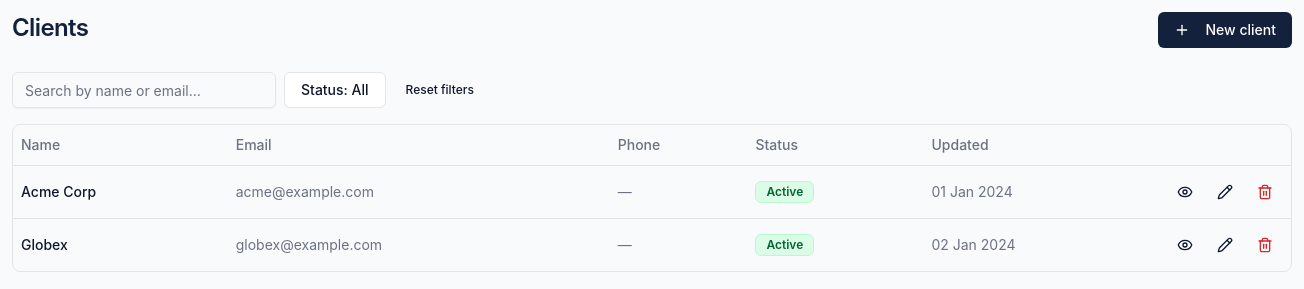
ClientsPage › Reset-resets-all-state: Reset filters button clears search and status filter
// Set search and status filter
Type "Acme" into the search field with test id "search-input" at (144, 90), box [12, 72, 276, 108]
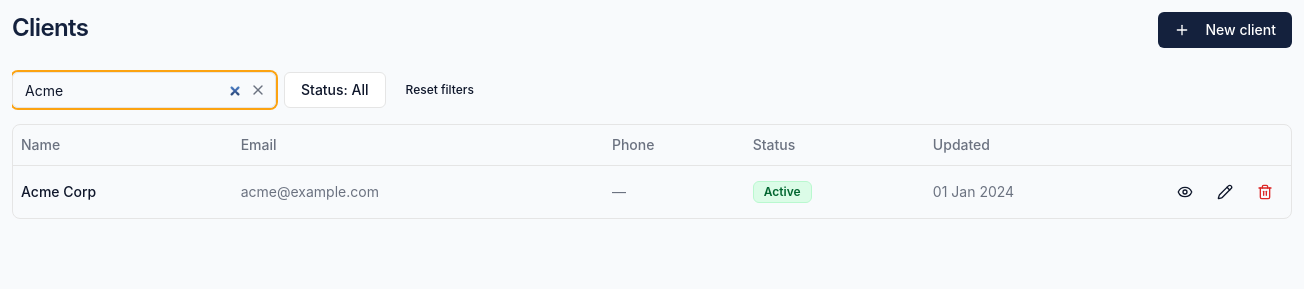
Click the button with test id "status-filter-trigger" at (335, 90), box [284, 72, 386, 108]
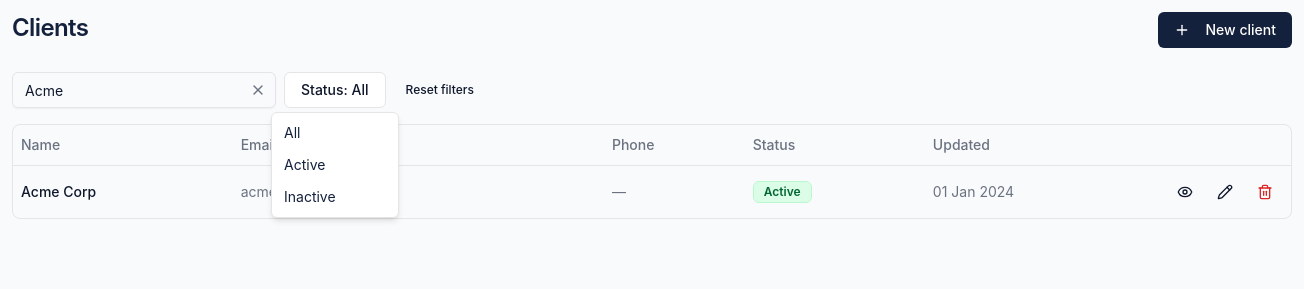
Click the menu item with test id "filter-active" at (305, 164), box [284, 156, 325, 173]
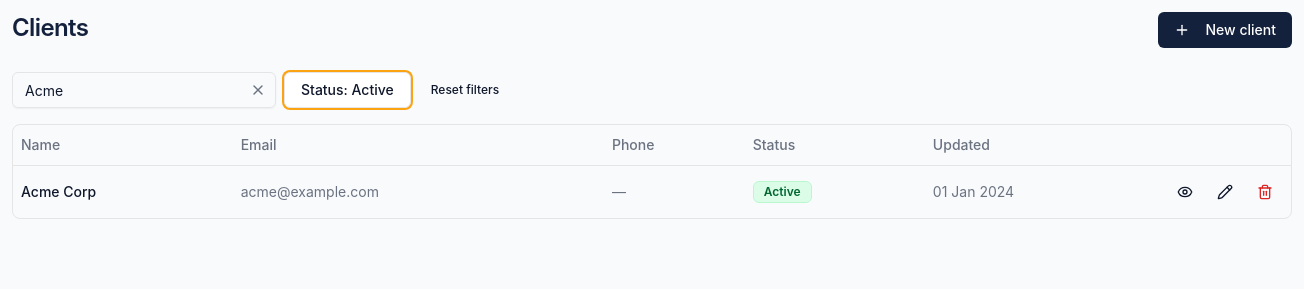
Expected: the button with test id "status-filter-trigger" shows "Active", [284, 72, 411, 108]
// Reset all filters
Click the button with test id "btn-reset-filters" at (465, 90), box [419, 74, 511, 106]
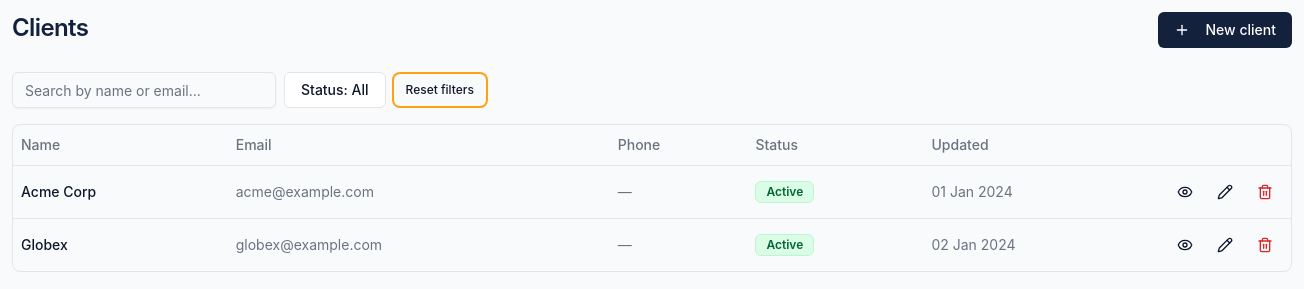
Expected: the search field with test id "search-input" is empty, [12, 72, 276, 108]
Expected: the button with test id "status-filter-trigger" shows "All", [284, 72, 386, 108]
Expected: the button with test id "btn-clear-search" is gone
